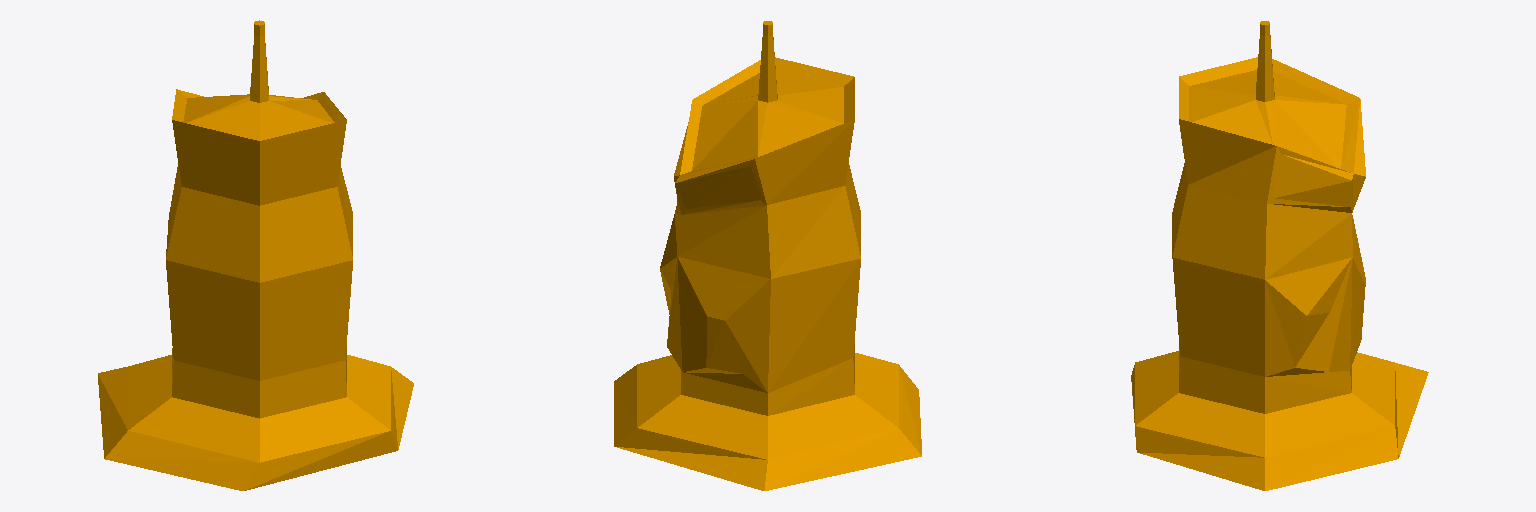
URDF robot description (mesh_object):
<robot name="mesh_object">
  <link name="base">
    <visual>
      <geometry>
        <mesh filename="candle_holder_4_candle_holder_4.obj" scale="1 1 1" />
      </geometry>
    </visual>
    <collision>
      <geometry>
        <mesh filename="candle_holder_4_candle_holder_4.obj" scale="1 1 1" />
      </geometry>
    </collision>
    <inertial>
      <origin xyz="-0.002654 0.000733 0.062636" rpy="0 0 0" />
      <mass value="0.5" />
      <inertia ixx="0.01" iyy="0.01" izz="0.01" ixy="0" ixz="0" iyz="0" />
    </inertial>
  </link>
</robot>

--- Facts derived from the render (not from the file) ---
3 views of the same robot in one strip: view 1: azimuth 30°, elevation 25°; view 2: azimuth 150°, elevation 25°; view 3: azimuth 270°, elevation 25° (orthographic).
Model mesh_object with 1 links and 0 joints (none), rooted at base, posed all joints at 0.
Visible links, largest first — view 1: base; view 2: base; view 3: base.
Boxes of the visible links, x1=… form: base: x1=98, y1=20, x2=413, y2=490; base: x1=614, y1=21, x2=921, y2=490; base: x1=1131, y1=21, x2=1428, y2=490.
Bounding box of the posed robot: 0.1021 × 0.0859 × 0.1253 m (x, y, z).
Meshes: 1 distinct files referenced, 1 mesh visuals loaded (1 OBJ).
